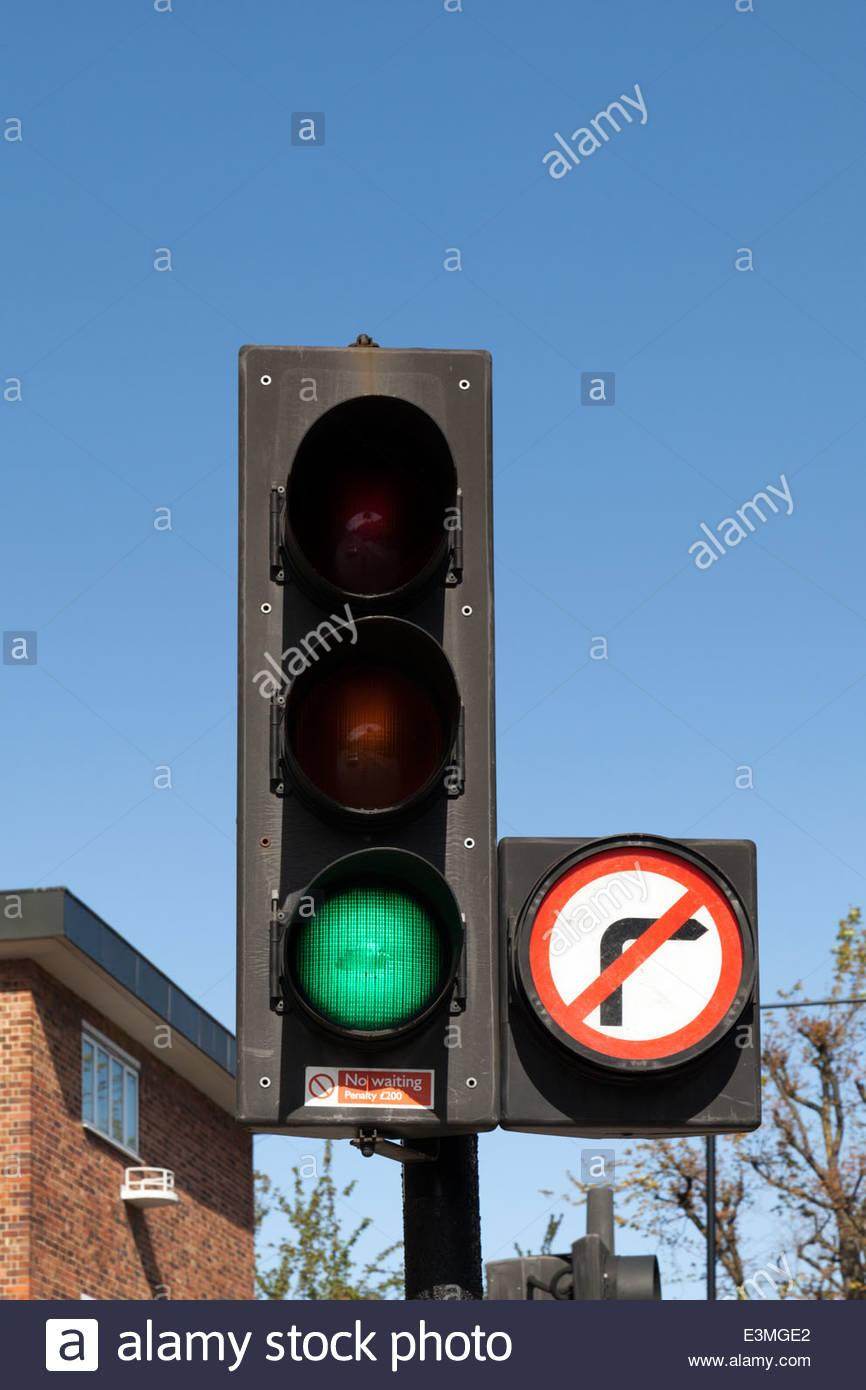no_right_turn: (528, 851, 746, 1058)
